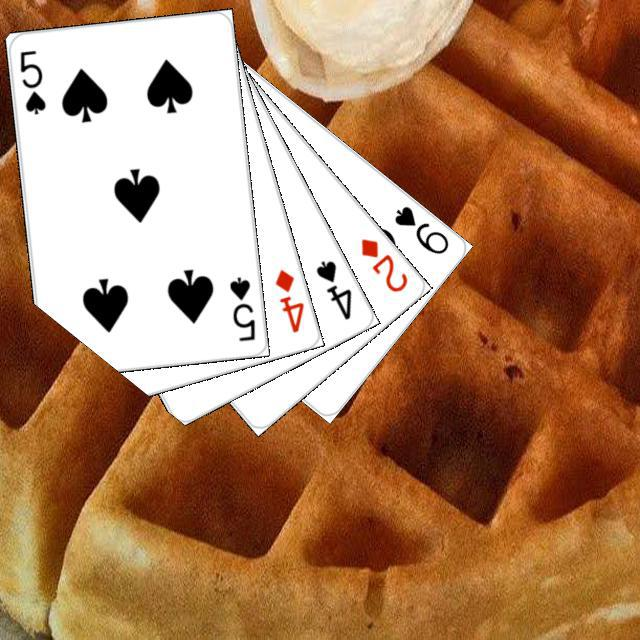2d: (355, 233, 410, 294)
4d: (270, 264, 306, 335)
4s: (310, 255, 354, 322)
5s: (15, 45, 48, 116), (225, 272, 257, 343)
9s: (389, 201, 451, 256)
